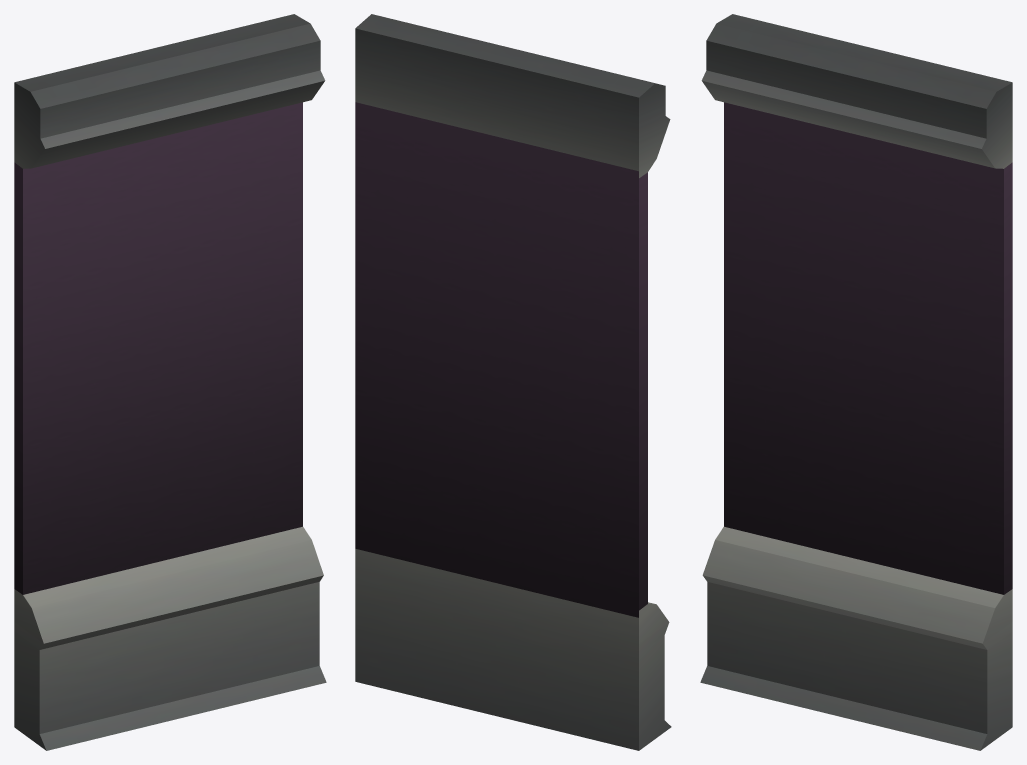
File: wallHorizontal3_mesh.fbx
The picture shows the model from 3 angles, left to right: view 1: azimuth 30°, elevation 25°; view 2: azimuth 150°, elevation 25°; view 3: azimuth 330°, elevation 25°; orthographic projection.
Parts seen in each view (by area): view 1: wallHorizontal1_mesh1; view 2: wallHorizontal1_mesh1; view 3: wallHorizontal1_mesh1.
Boxes of the visible parts, x1,y1,x2,y2 form: wallHorizontal1_mesh1: (14,14,326,750); wallHorizontal1_mesh1: (355,14,671,750); wallHorizontal1_mesh1: (700,14,1012,750).
Bounding box in the file's own units: 100 × 221 × 20.
Materials: 1 (1 with a texture image).
